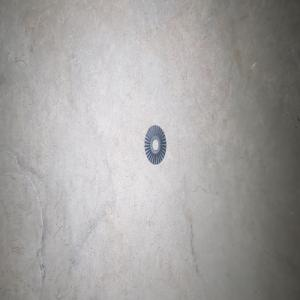Washer: (144, 124, 166, 164)
